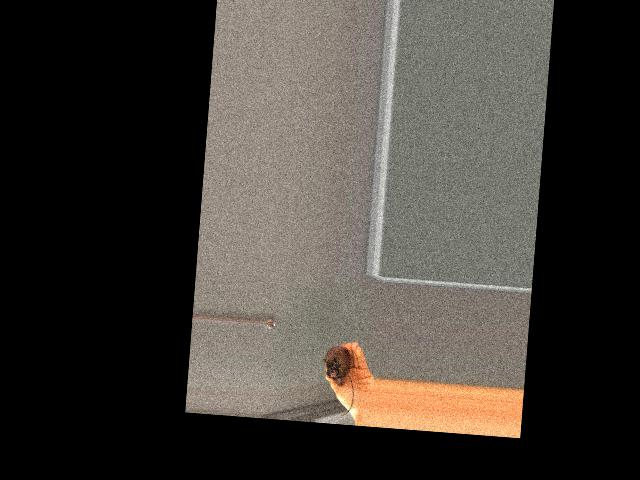beet: (320, 336, 358, 416)
